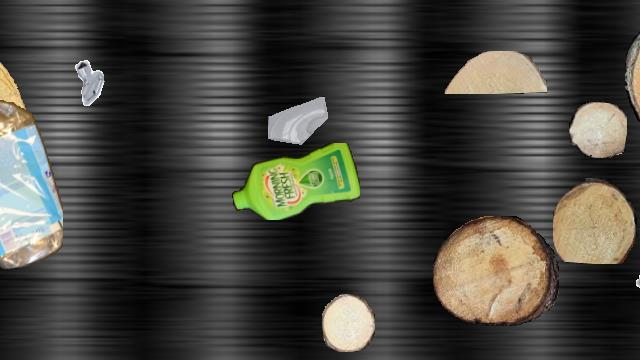glass: (268, 96, 330, 158)
metal: (68, 57, 116, 105), (626, 250, 640, 302)
plastic: (0, 81, 62, 269), (232, 143, 360, 219)
wood: (433, 216, 559, 326), (553, 178, 637, 264), (444, 51, 546, 93), (569, 102, 627, 158), (322, 294, 374, 352), (0, 35, 37, 115), (625, 1, 640, 151)
